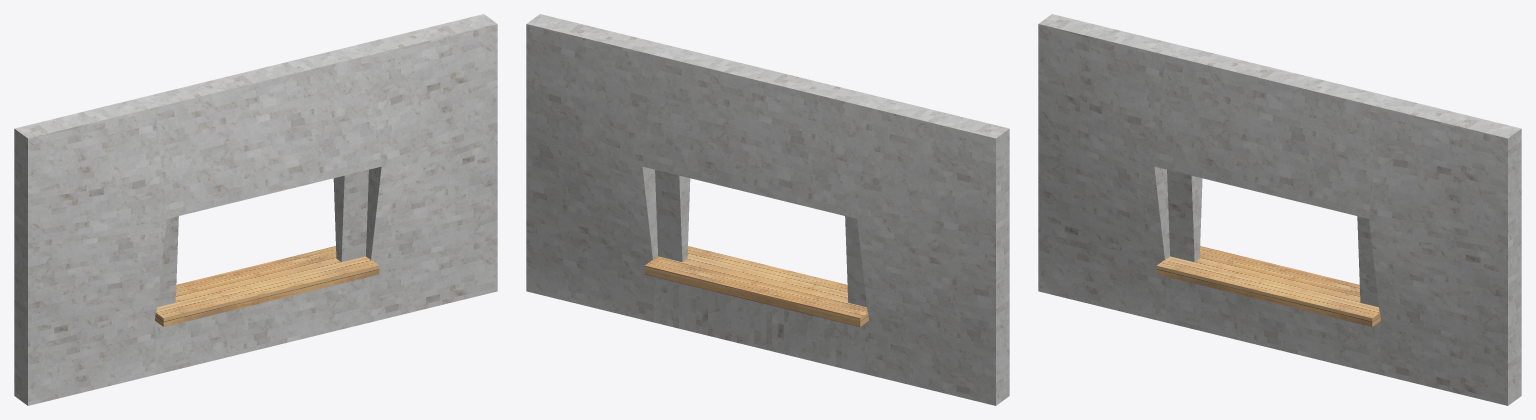
The model's file is OrderWall.fbx.
The picture shows the model from 3 angles, left to right: view 1: azimuth 30°, elevation 25°; view 2: azimuth 150°, elevation 25°; view 3: azimuth 330°, elevation 25°; orthographic projection.
Visible parts, largest first — view 1: OrderWall, Bridge; view 2: OrderWall, Bridge; view 3: OrderWall, Bridge.
Boxes of the visible parts, x1,y1,x2,y2 form: OrderWall: (14, 14, 497, 405); Bridge: (155, 246, 379, 326); OrderWall: (526, 14, 1009, 405); Bridge: (644, 246, 868, 326); OrderWall: (1038, 14, 1521, 405); Bridge: (1156, 246, 1380, 326).
Bounding box in the file's own units: 738 × 402 × 99.55.
